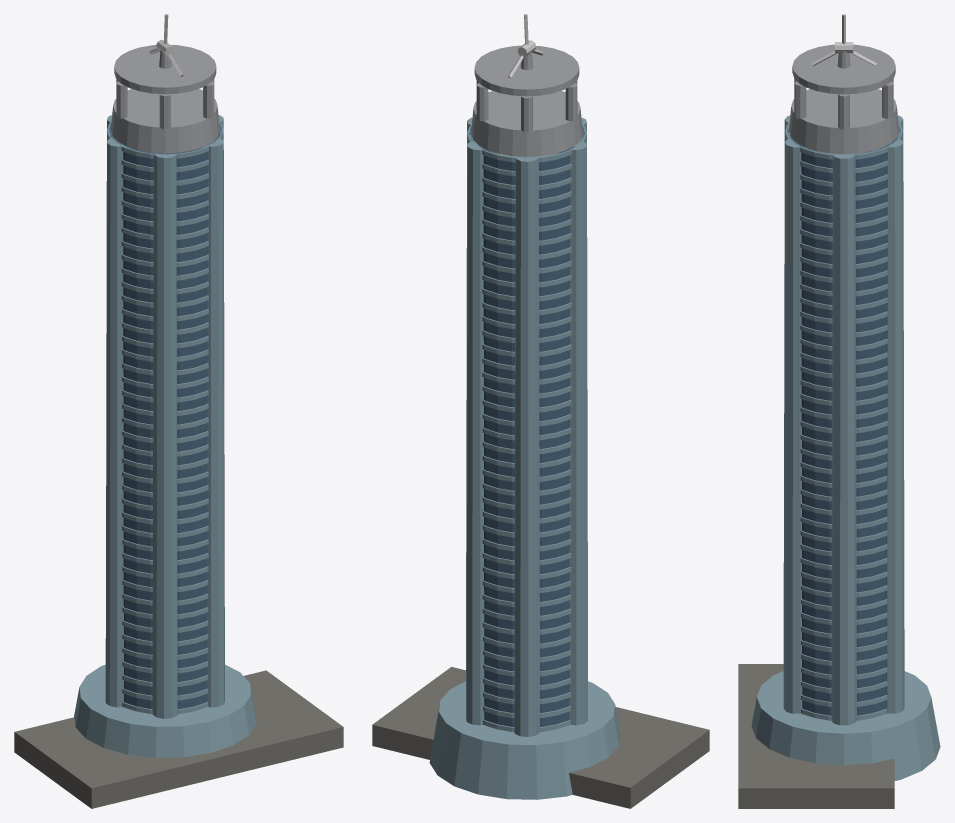
The model's file is st_george_wharf_tower.glb.
The picture shows the model from 3 angles, left to right: view 1: azimuth 30°, elevation 25°; view 2: azimuth 150°, elevation 25°; view 3: azimuth 270°, elevation 25°; orthographic projection. The views are drawn at different scales.
Visible parts, largest first — view 1: st_george_wharf_tower; view 2: st_george_wharf_tower; view 3: st_george_wharf_tower.
Part boxes in pixels (x1,y1,x2,y2): st_george_wharf_tower: (14, 14, 343, 808); st_george_wharf_tower: (372, 14, 709, 808); st_george_wharf_tower: (738, 14, 940, 808).
Bounding box in the file's own units: 64 × 176 × 44.
